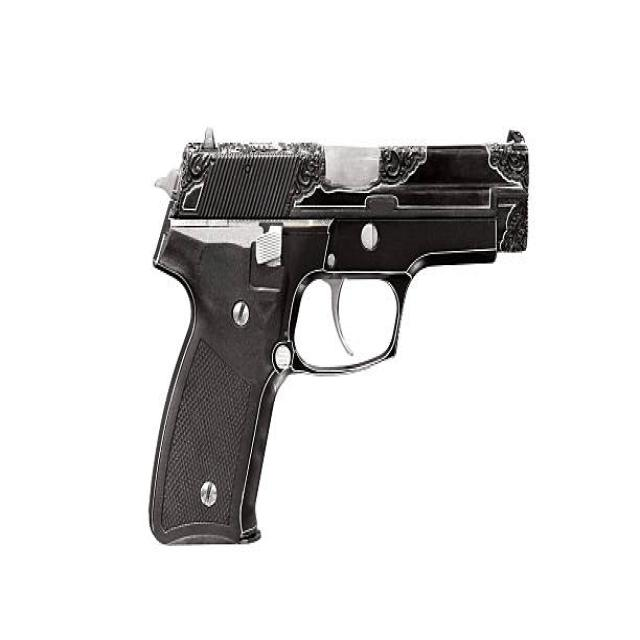pistol: (140, 120, 534, 558)
